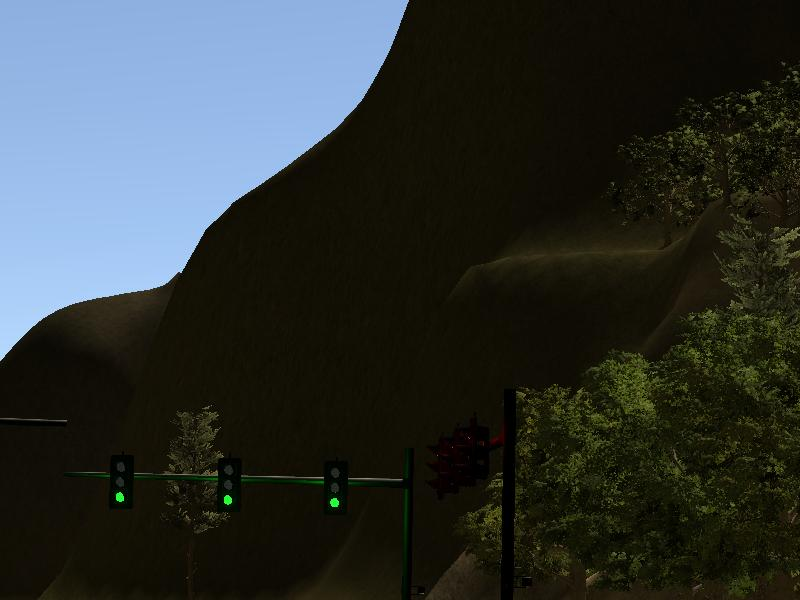Green: (110, 455, 134, 507), (325, 459, 345, 513), (219, 459, 239, 512)
